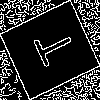T: (24, 25, 77, 73)
